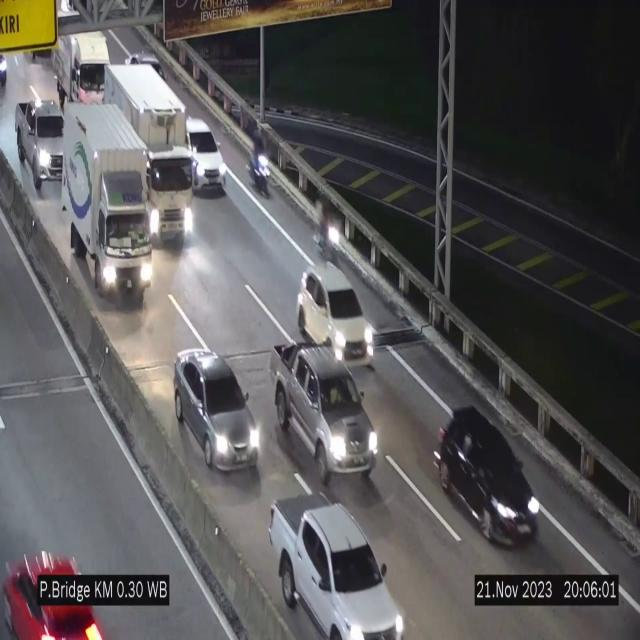Car: (436, 406, 540, 544), (0, 538, 105, 640), (174, 349, 261, 469), (297, 262, 373, 360), (12, 100, 76, 182), (185, 118, 227, 192)
Motorcycle: (310, 192, 341, 266), (251, 132, 273, 198)
Truck: (59, 98, 158, 306), (273, 492, 403, 640), (266, 333, 378, 491), (102, 60, 192, 244), (50, 21, 116, 120)
